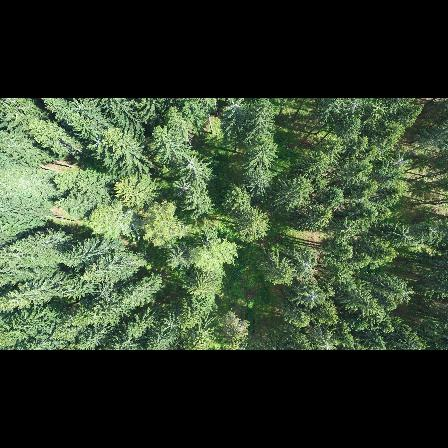Sick: (292, 249, 318, 277), (312, 331, 341, 350), (389, 151, 412, 173), (160, 315, 183, 335), (223, 98, 247, 117), (181, 153, 200, 175), (339, 220, 359, 240)
